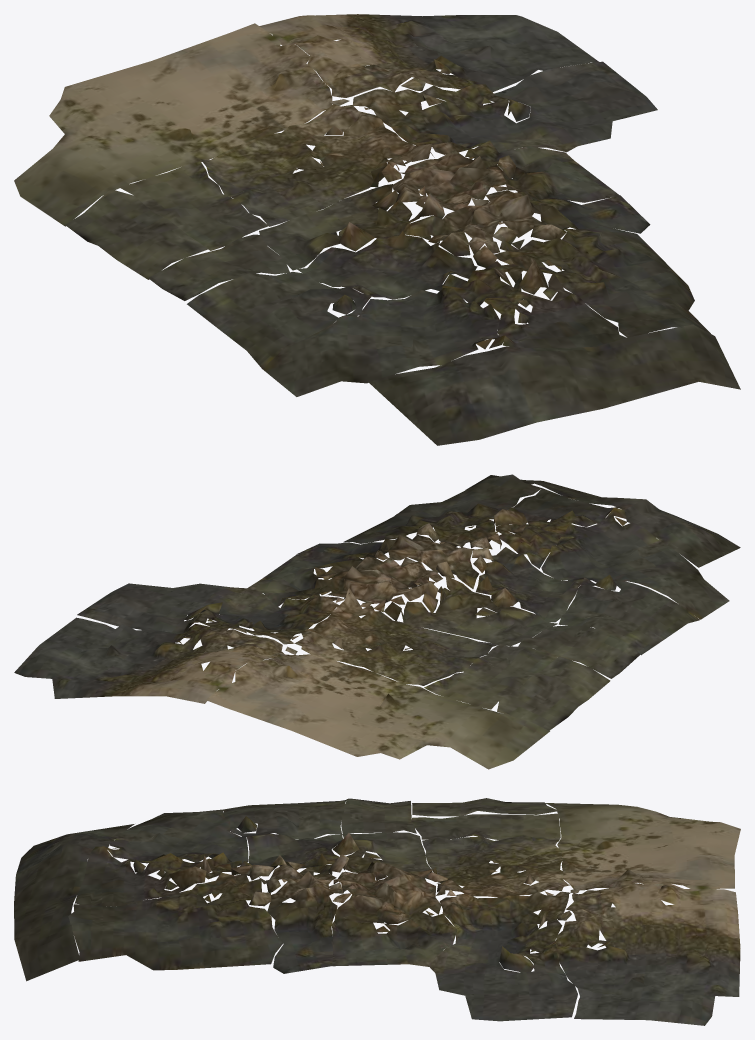
The model's file is ph_coast_rocks_b.glb.
3 views of the same model, one above another, from view 1: azimuth 30°, elevation 25°; view 2: azimuth 150°, elevation 25°; view 3: azimuth 270°, elevation 25° (orthographic). The views are drawn at different scales.
Visible parts, largest first — view 1: coast_rocks_03; view 2: coast_rocks_03; view 3: coast_rocks_03.
Part boxes in pixels (x1,y1,x2,y2): coast_rocks_03: (14,14,740,445); coast_rocks_03: (14,474,740,769); coast_rocks_03: (14,798,740,1025).
Bounding box in the file's own units: 21.14 × 3.21 × 28.26.
1 material, 1 textured.
